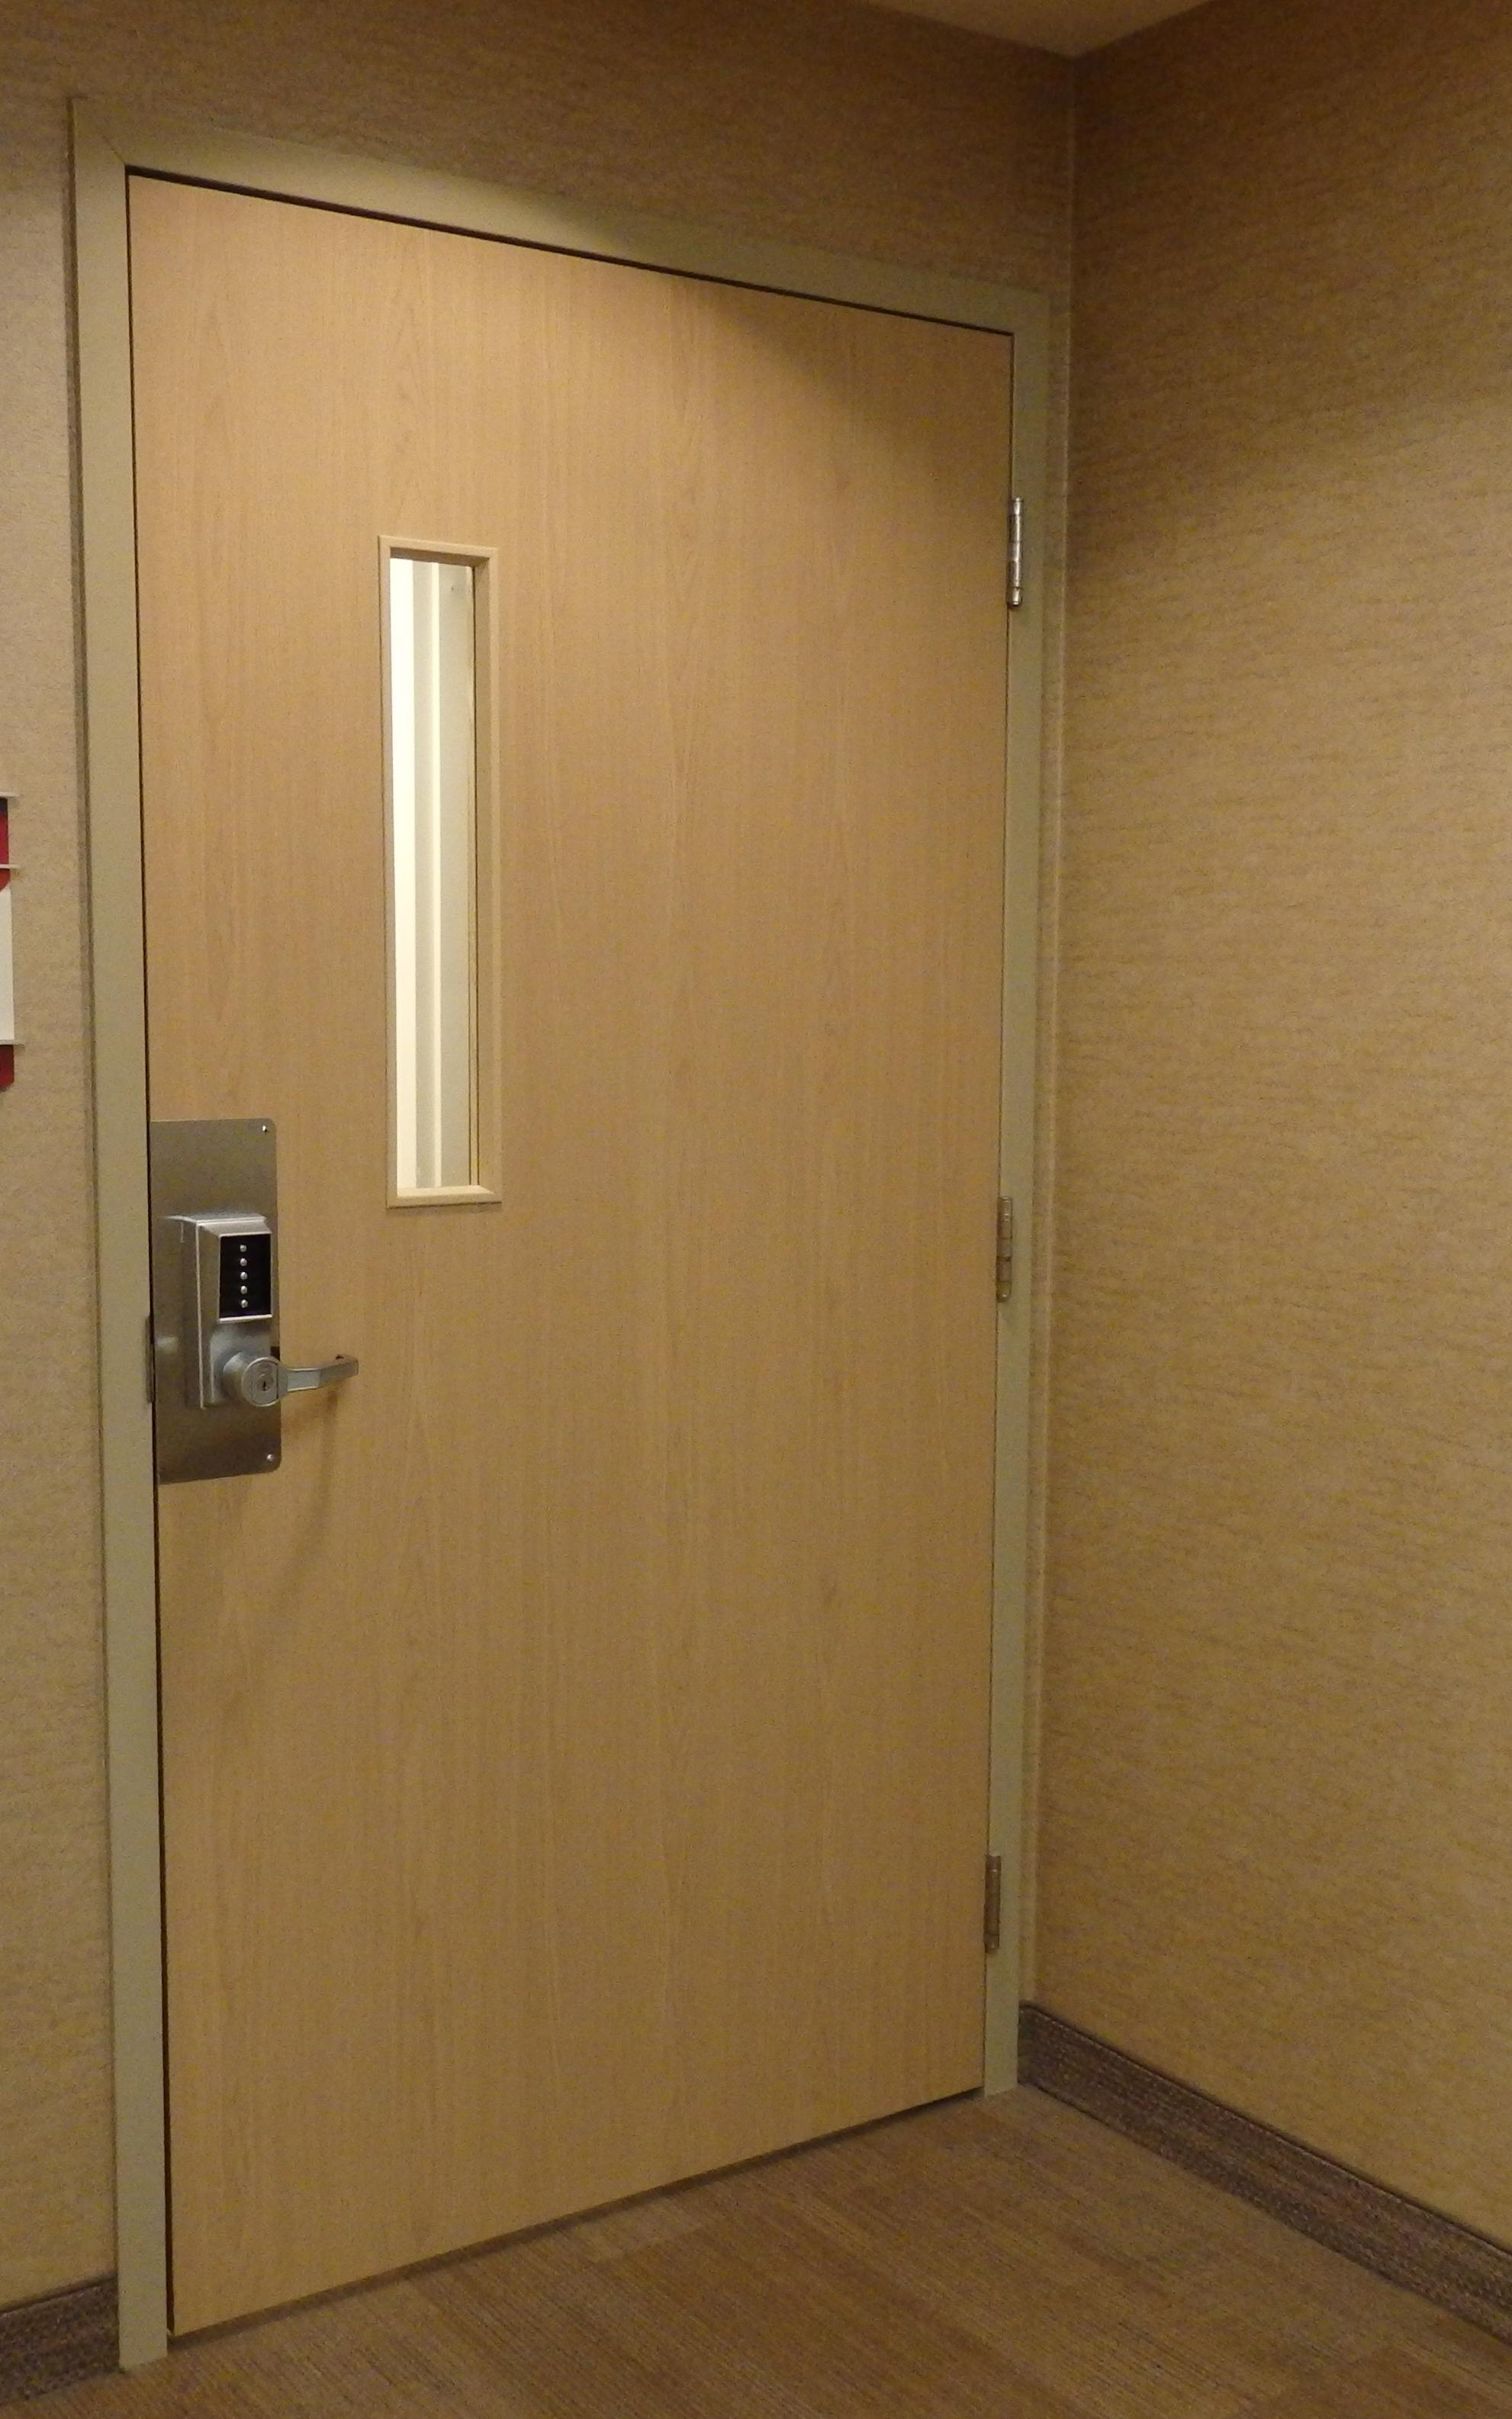door: (92, 136, 1077, 2297)
